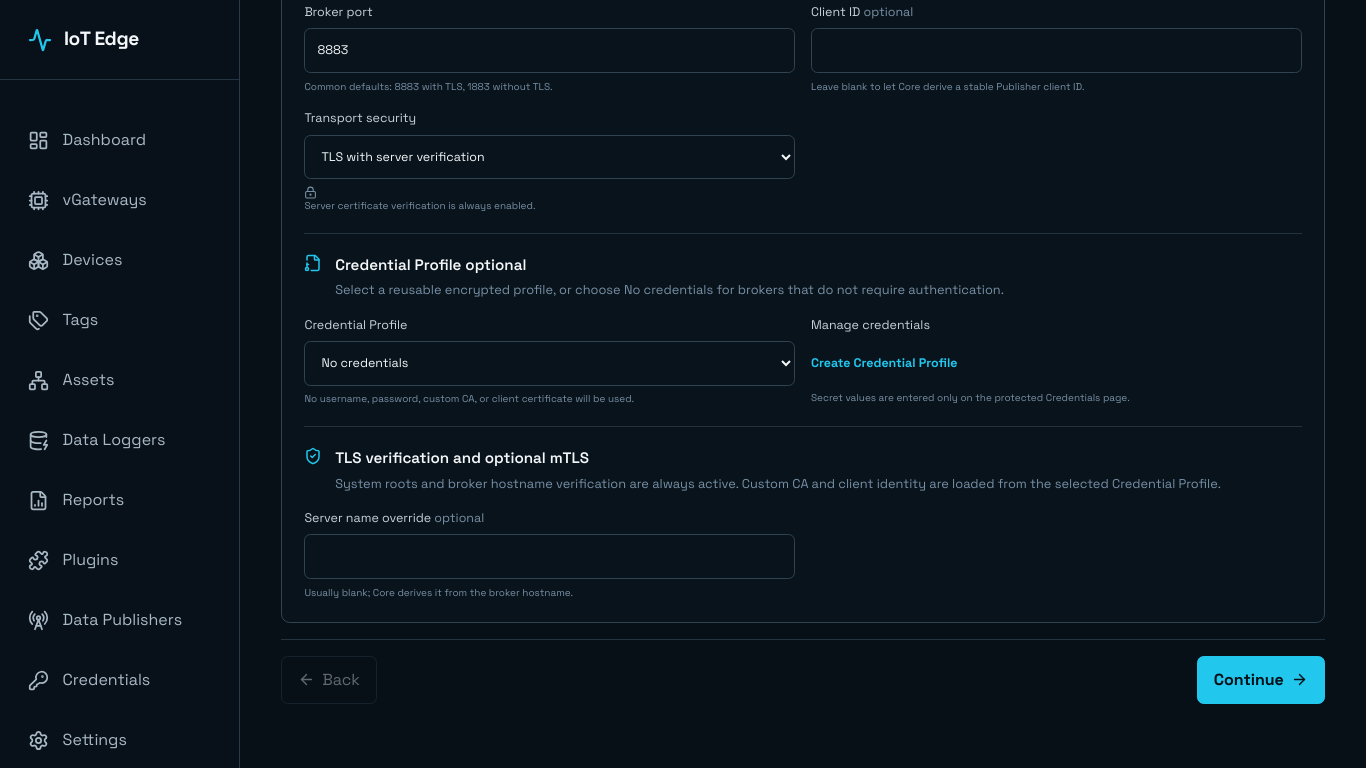
MQTTPublisherWizardPage › shows Plugin-output coverage and period in the shared source catalog
(page scrolled)
Click the button "Continue": (1261, 680) [1197, 656, 1325, 704]
(page scrolled)
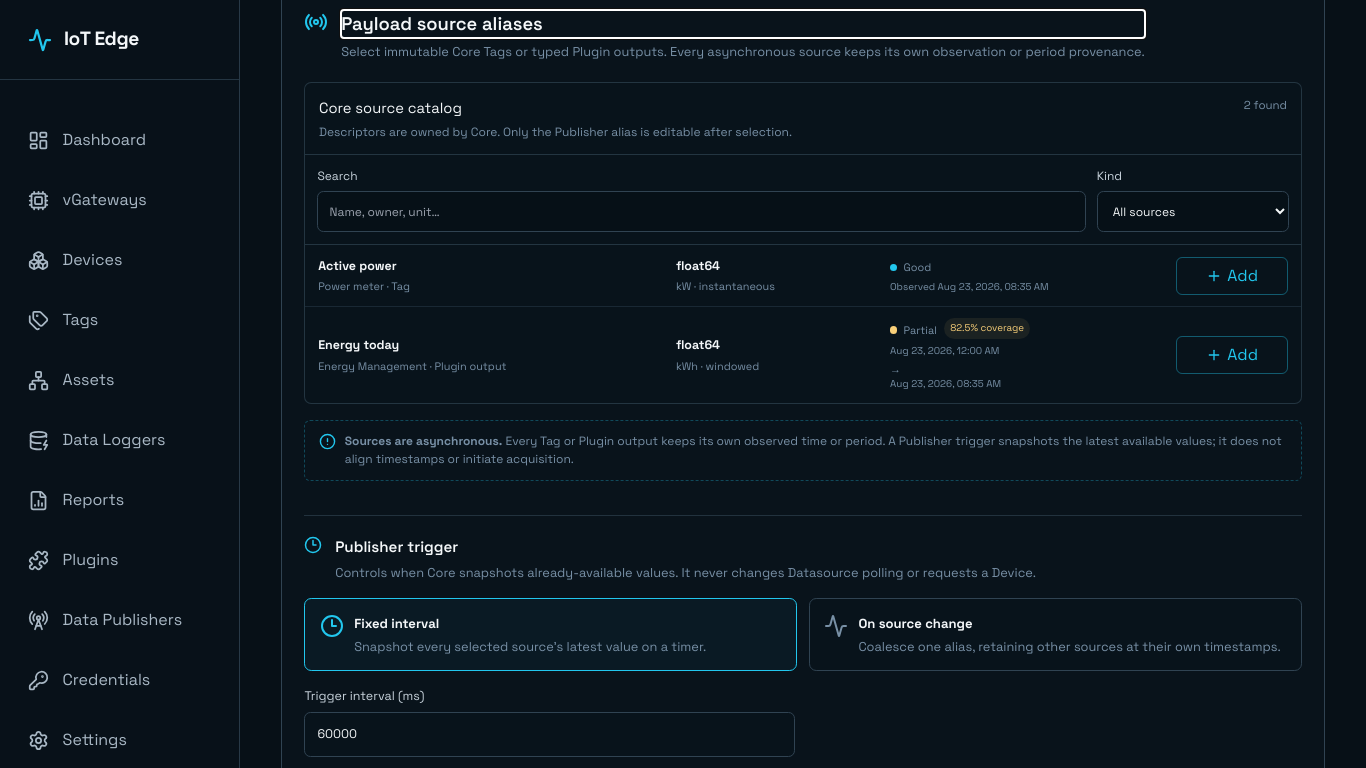
expect the text "Energy today" is shown: met, box [318, 338, 399, 354]
expect the progress indicator named "Coverage 82.5 percent" is shown: met, box [944, 318, 1030, 339]
expect the element named "Period from 2026-08-23T00:00:00Z to 2026-08-23T08:35:25.573Z" is shown: met, box [890, 344, 1001, 390]
